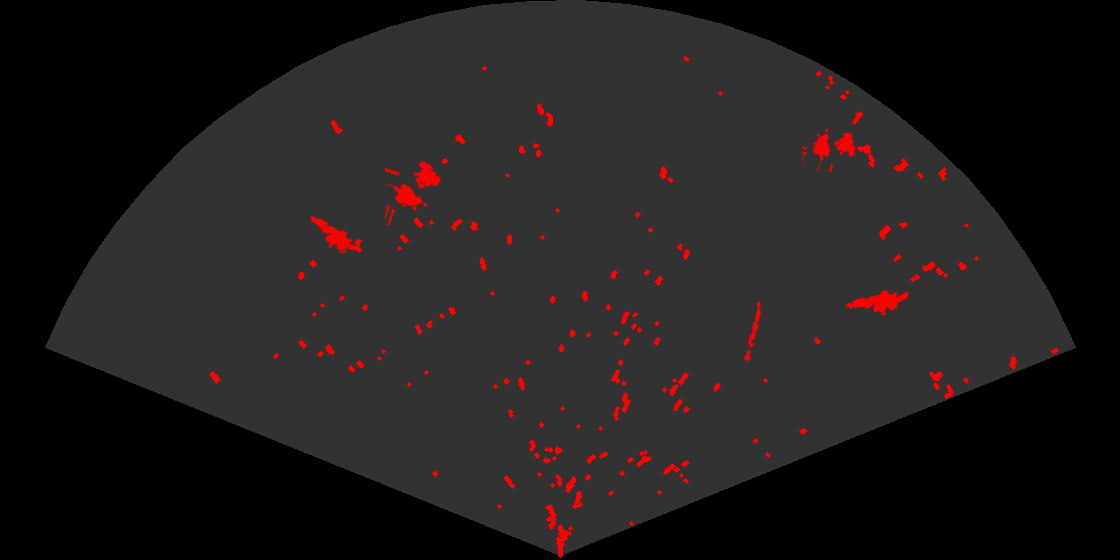cage: (385, 159, 443, 225), (802, 127, 858, 172)
chain: (742, 299, 763, 364)
frogman: (307, 214, 358, 253), (844, 288, 908, 317)
